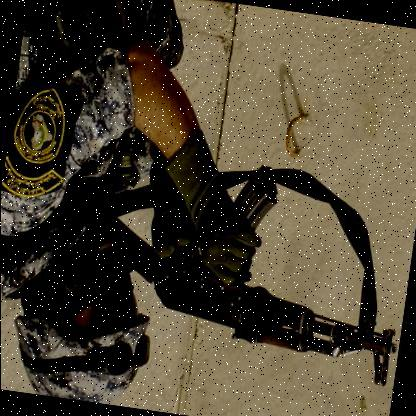rifle: (97, 152, 416, 389)
